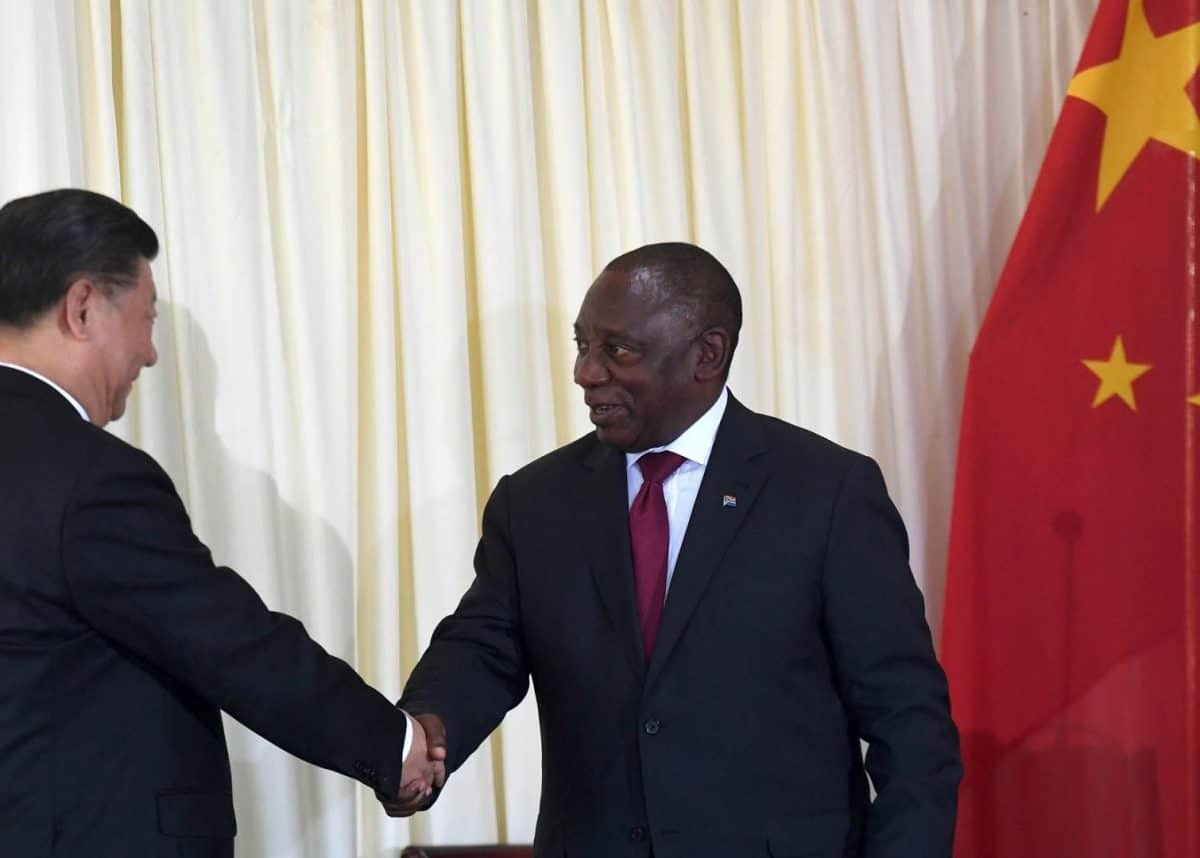face_no_mask: (4, 188, 160, 425), (574, 240, 742, 448)
